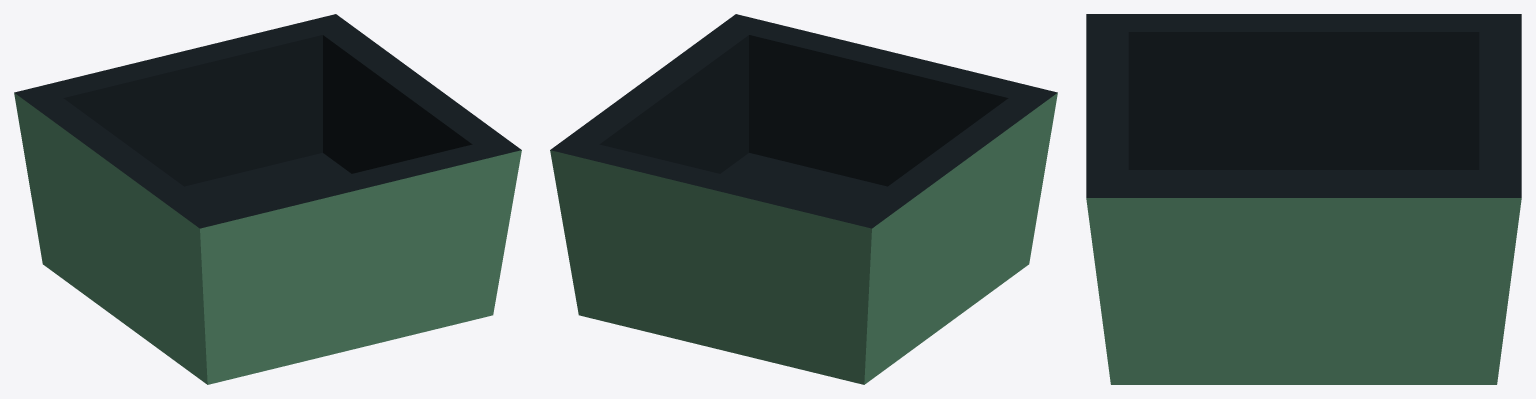
The model's file is TrashStation.fbx.
3 renders of one model, left to right at view 1: azimuth 30°, elevation 25°; view 2: azimuth 150°, elevation 25°; view 3: azimuth 270°, elevation 25°, orthographic. The views are drawn at different scales.
Visible parts, largest first — view 1: TrashStation; view 2: TrashStation; view 3: TrashStation.
Part boxes in pixels (bbox=[...]): TrashStation: bbox=[14, 14, 521, 384]; TrashStation: bbox=[550, 14, 1057, 384]; TrashStation: bbox=[1086, 14, 1521, 384].
Bounding box in the file's own units: 200 × 100 × 200.
